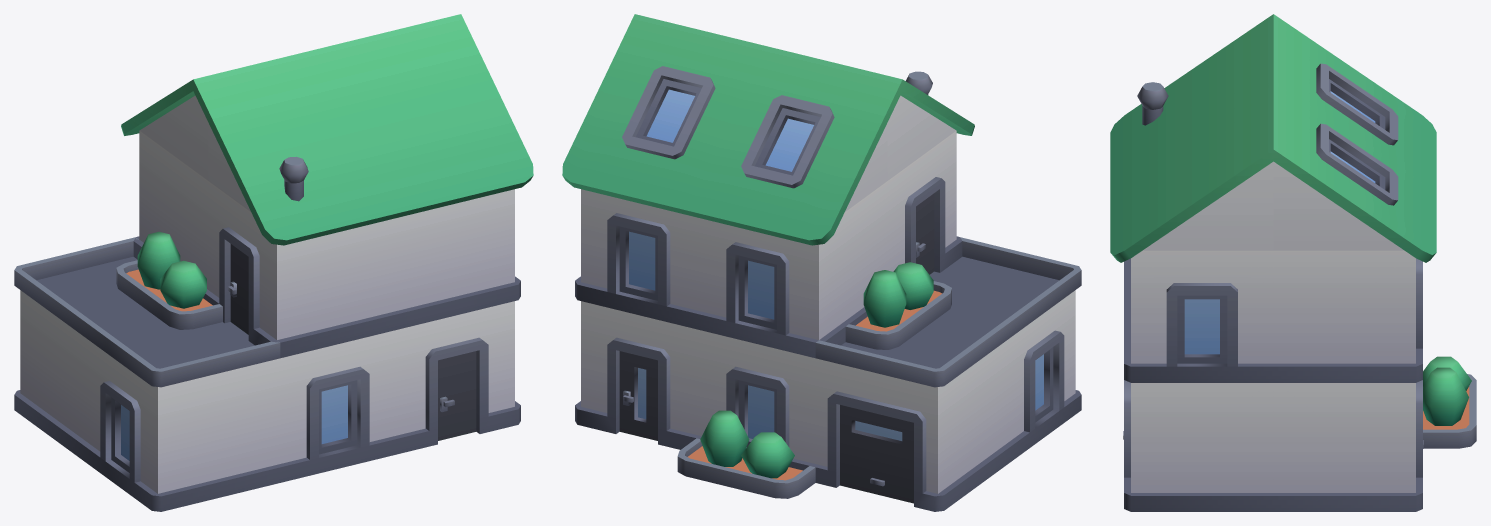
The model's file is suburban.building_type_o.glb.
The picture shows the model from 3 angles, left to right: view 1: azimuth 30°, elevation 25°; view 2: azimuth 150°, elevation 25°; view 3: azimuth 270°, elevation 25°; orthographic projection. The views are drawn at different scales.
Parts seen in each view (by area): view 1: building-type-o; view 2: building-type-o; view 3: building-type-o.
Part boxes in pixels (x1,y1,x2,y2): building-type-o: [14, 14, 533, 511]; building-type-o: [562, 14, 1081, 511]; building-type-o: [1110, 14, 1476, 511].
Size of the model in its own units: 6.99 by 6.26 by 5.65.
1 material, 1 textured.
